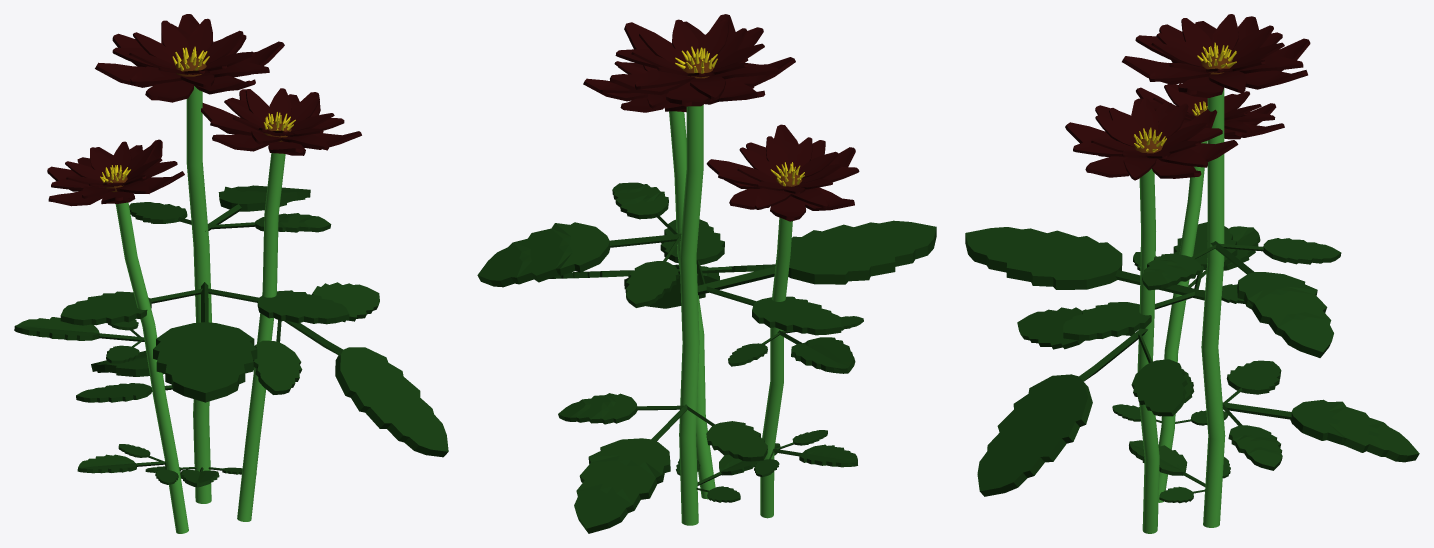
Rendered from dahlia.fbx.
3 views of the same model, side by side, from view 1: azimuth 30°, elevation 25°; view 2: azimuth 150°, elevation 25°; view 3: azimuth 270°, elevation 25° (orthographic). The views are drawn at different scales.
Visible parts, largest first — view 1: dahlia; view 2: dahlia; view 3: dahlia.
Part boxes in pixels (box(x1,y1,x2,y2)): dahlia: box(14, 14, 448, 533); dahlia: box(477, 14, 936, 533); dahlia: box(965, 14, 1419, 533).
Size of the model in its own units: 0.879 by 1.18 by 1.01.
